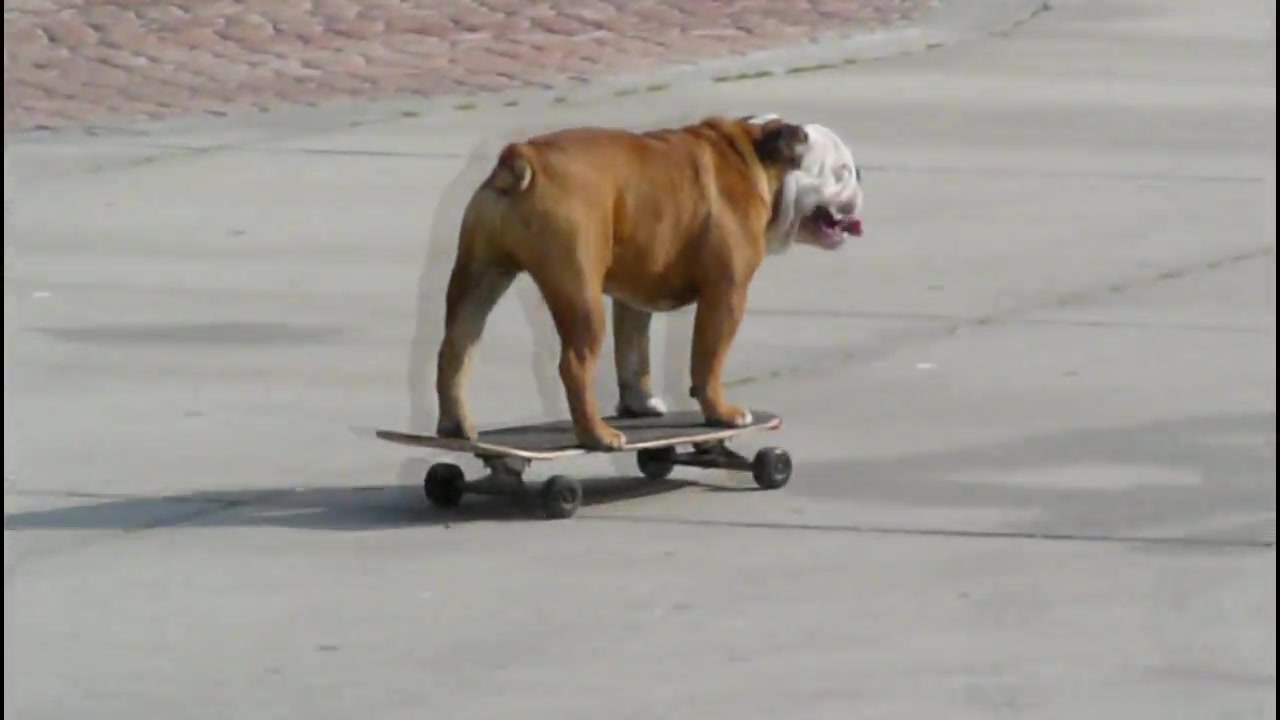dog: (433, 115, 873, 450)
